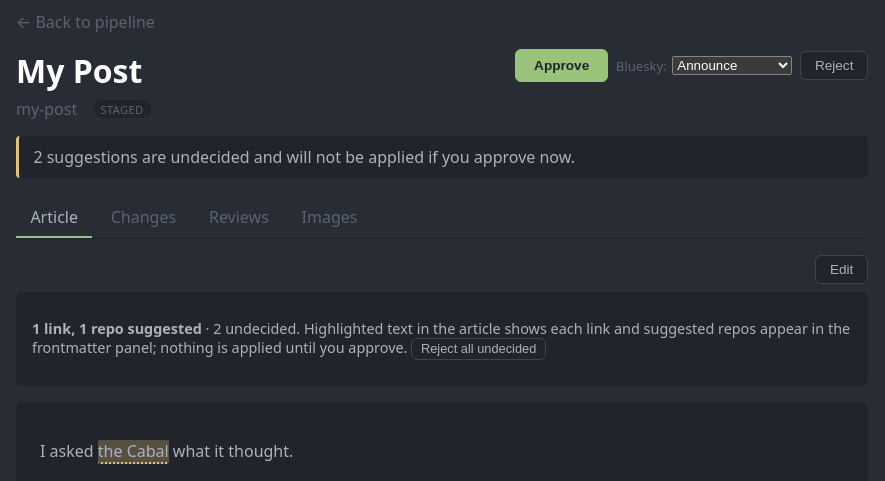
Scenario: PostDetail — link and repo suggestions (PIPE-38) › approval reports what was applied and what was skipped
Expected: the heading "My Post" is shown, [16, 49, 151, 92]
Click the button "Approve": (562, 66) [516, 49, 608, 82]
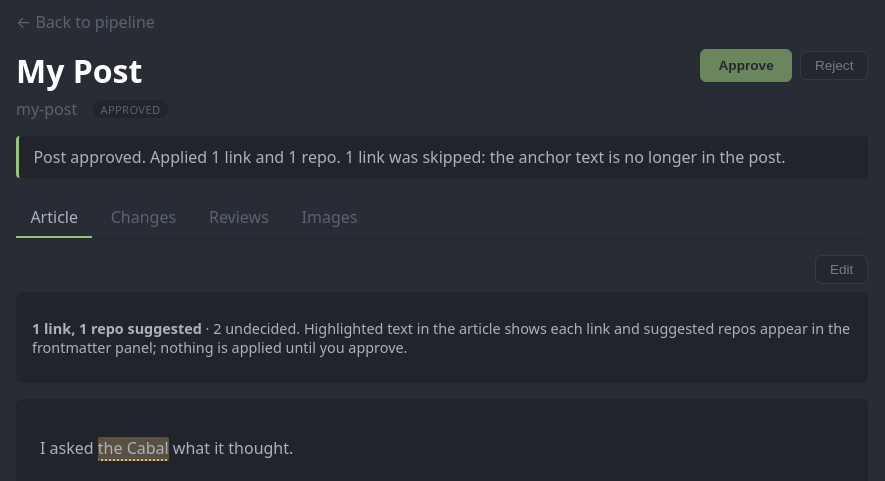
Now the text "Applied 1 link and 1 repo. 1 link was skipped: the anchor text is no longer" is shown, box [33, 146, 786, 168]
